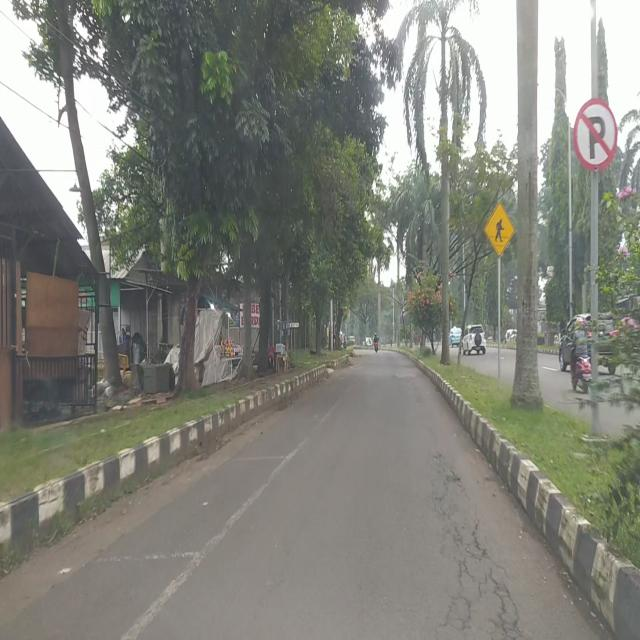Drain Hole: (417, 455, 523, 638)
